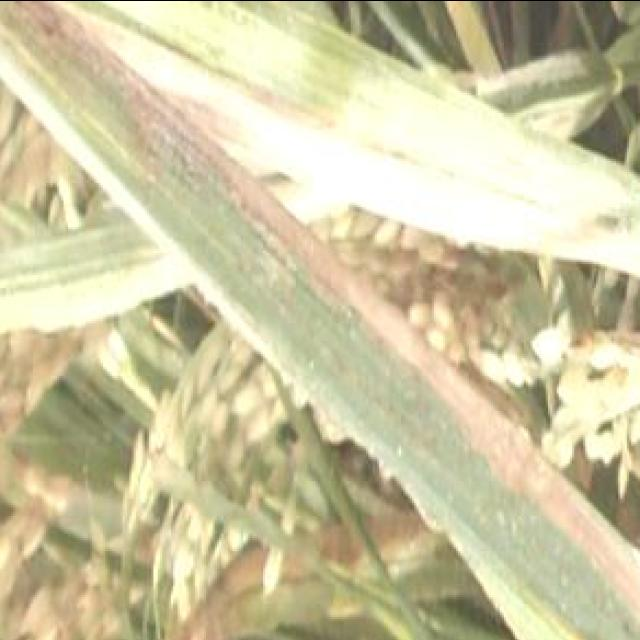Bacterial_Leaf_Blight: (360, 405, 640, 640), (134, 25, 498, 166)
